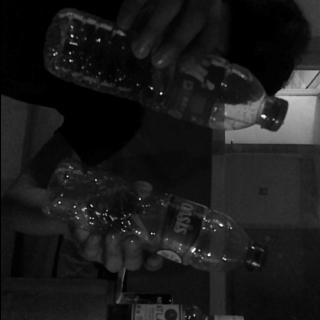plastic_bottles: (42, 11, 288, 130), (48, 159, 270, 275)
